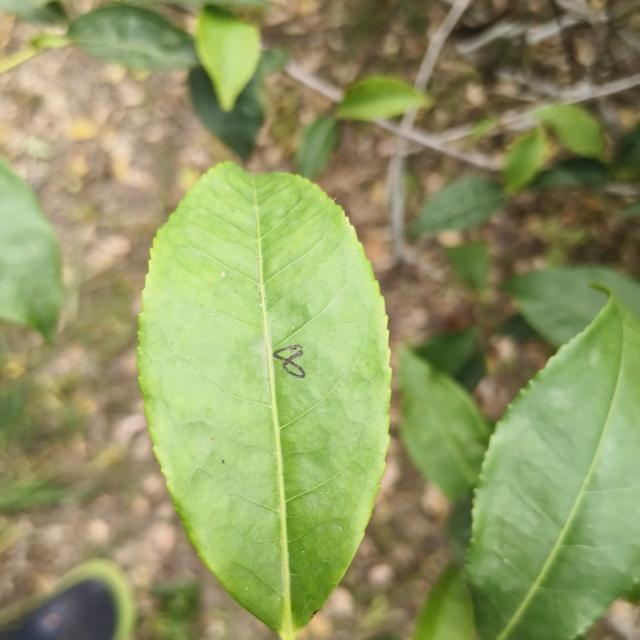Leaf: (138, 163, 391, 640), (467, 297, 640, 640), (400, 349, 492, 501), (0, 159, 63, 340), (502, 266, 640, 346), (66, 3, 197, 71), (189, 66, 263, 160), (196, 6, 260, 111), (412, 177, 506, 234), (412, 563, 474, 640), (337, 76, 430, 121), (531, 104, 603, 159), (415, 328, 479, 375), (503, 126, 546, 192), (296, 115, 339, 179), (530, 157, 608, 189)
